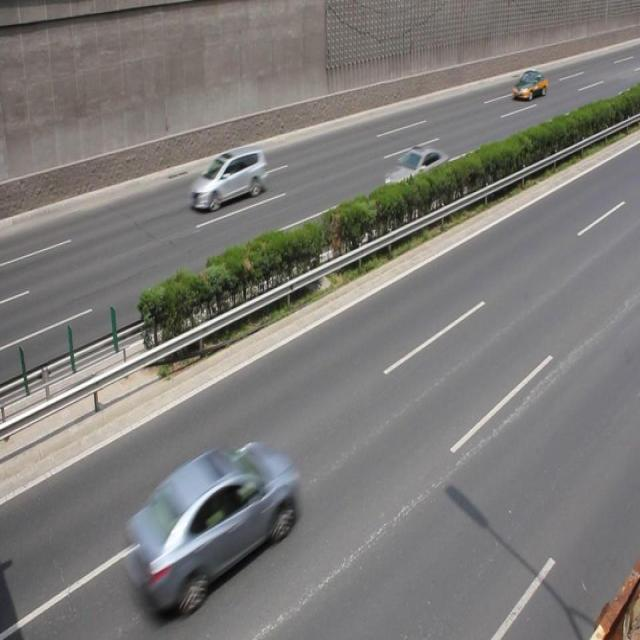car: (117, 438, 296, 610), (189, 146, 266, 213), (383, 146, 454, 202), (511, 70, 546, 102)
